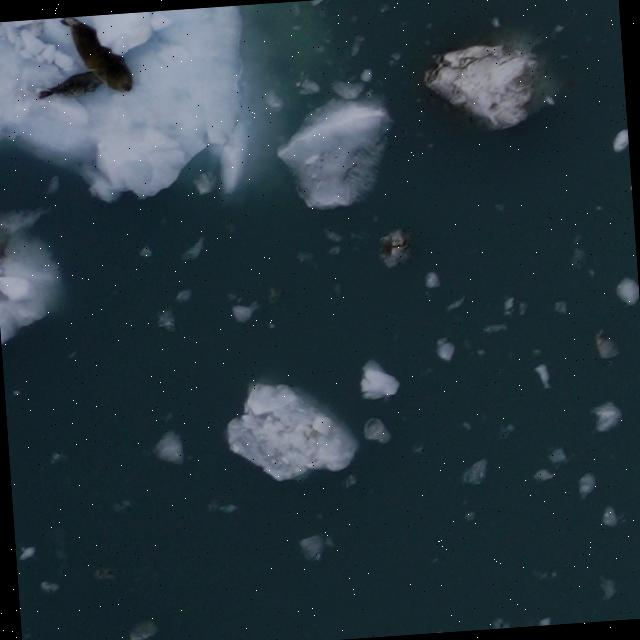seal: (58, 13, 137, 99), (34, 67, 108, 103)
